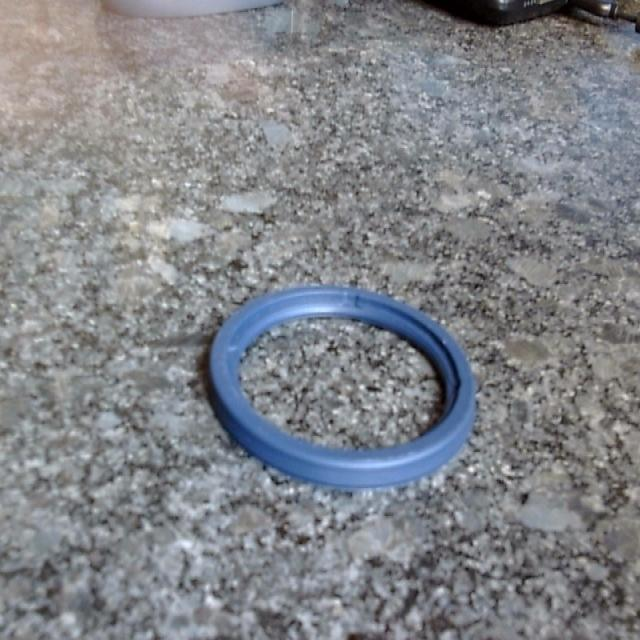cobalt-blue-ring: (211, 287, 475, 488)
